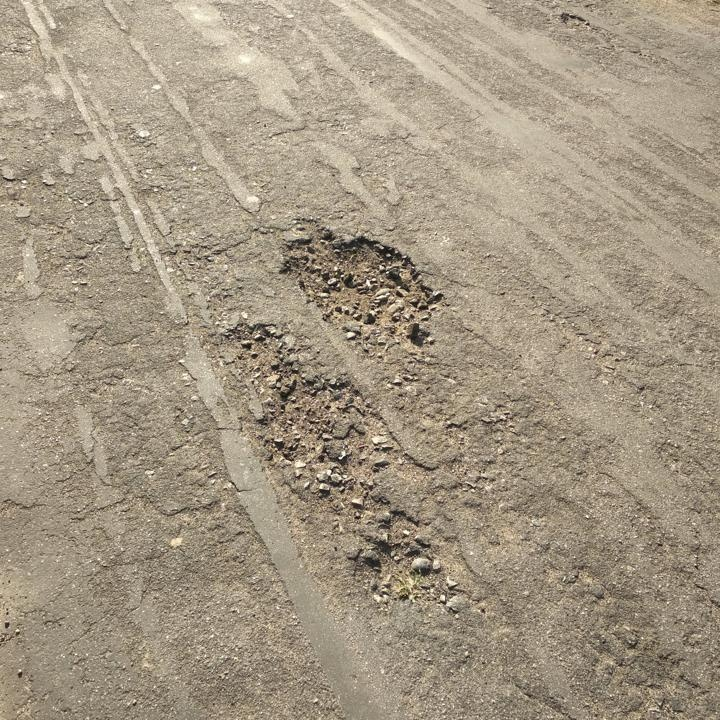pothole: (217, 320, 456, 607), (277, 213, 445, 356)
